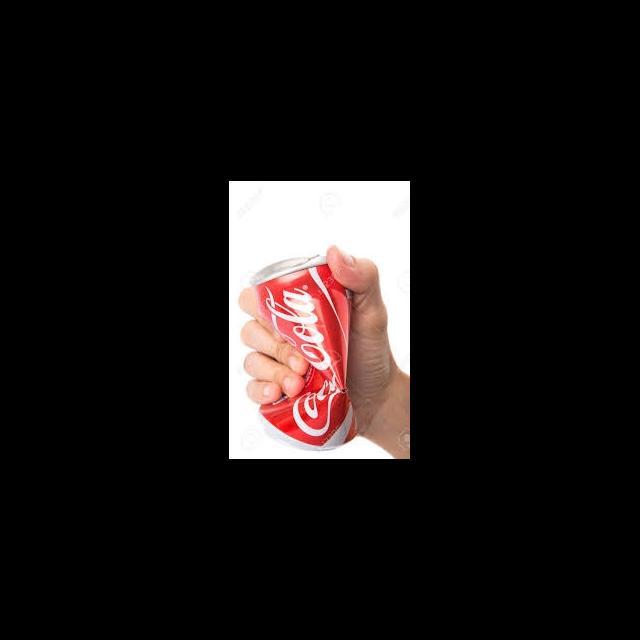metal: (240, 247, 362, 456)
